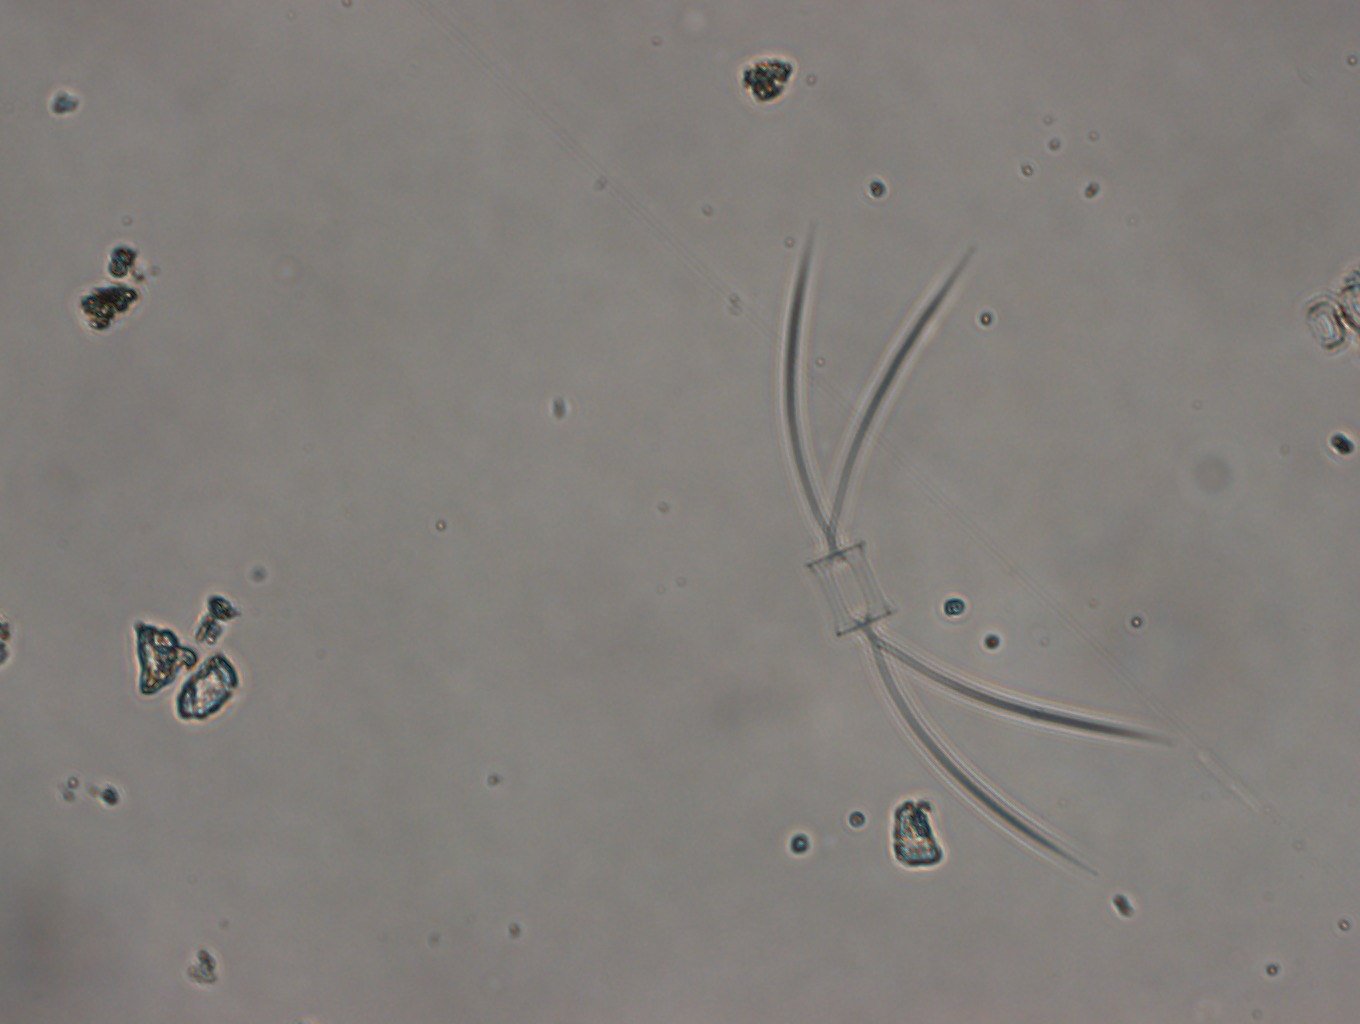chaetoceros: (763, 227, 1174, 876)
